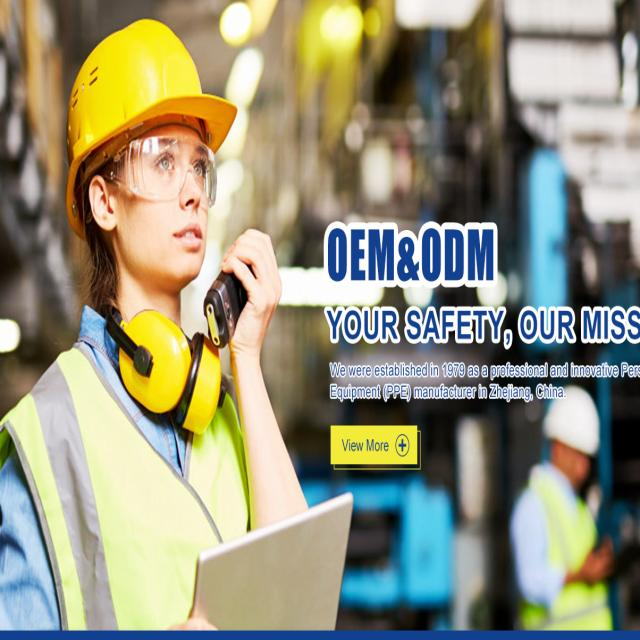Reflective-Jacket: (3, 323, 255, 625), (518, 472, 613, 625)
Safety-Helmet: (59, 15, 241, 184), (539, 387, 603, 461)
